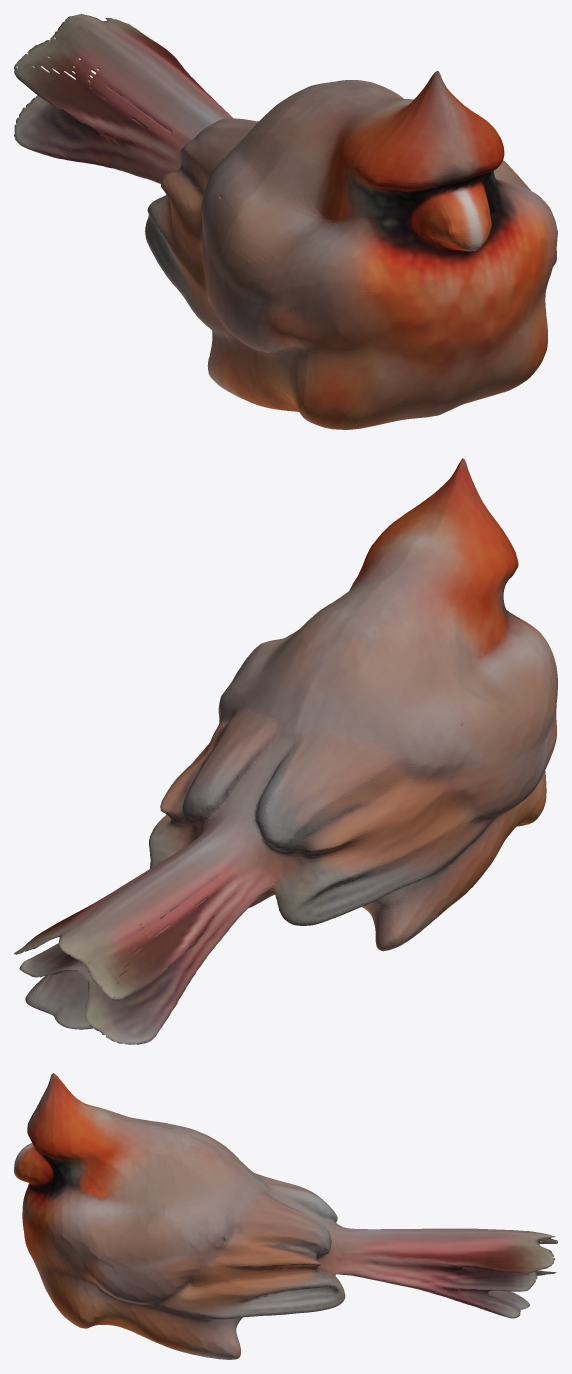
Rendered from cardinal.glb.
3 renders of one model, top to bottom at view 1: azimuth 30°, elevation 25°; view 2: azimuth 150°, elevation 25°; view 3: azimuth 270°, elevation 25°, orthographic. The views are drawn at different scales.
Visible parts, largest first — view 1: world; view 2: world; view 3: world.
Part boxes in pixels (x1,y1,x2,y2): world: [14, 14, 557, 429]; world: [14, 458, 557, 1044]; world: [14, 1073, 557, 1359].
Size of the model in its own units: 0.3989 by 0.5161 by 0.9951.
